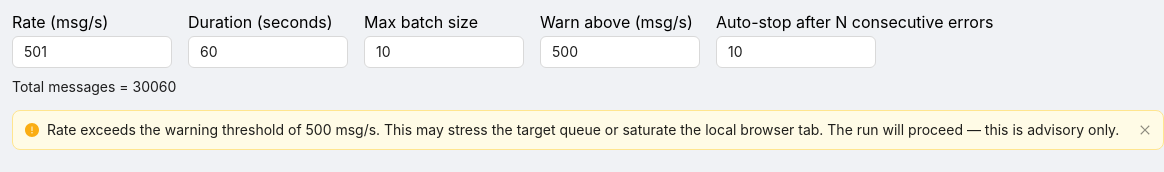
Test case: RateControls › warning returns when the threshold is crossed again after dismissal
This screenshot has width=1164, height=172.
Click the button named "close" at [1145, 130], box [1139,124,1151,136]
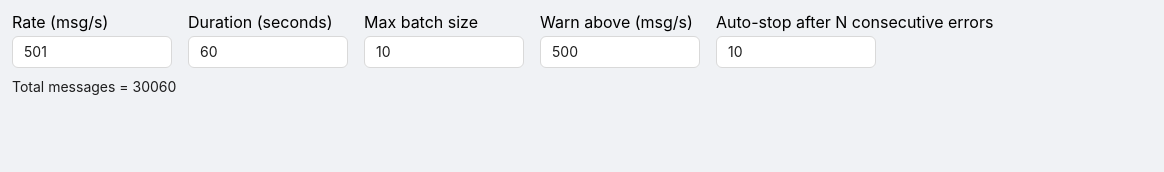
Expected: the element with test id "rate-warning" is gone
Drop back under the threshold, then cross it again — the advisory must reappear.
Replace the text in the number field labelled "Rate (msg/s)" with "400" at [92, 52], box [13,37,171,67]
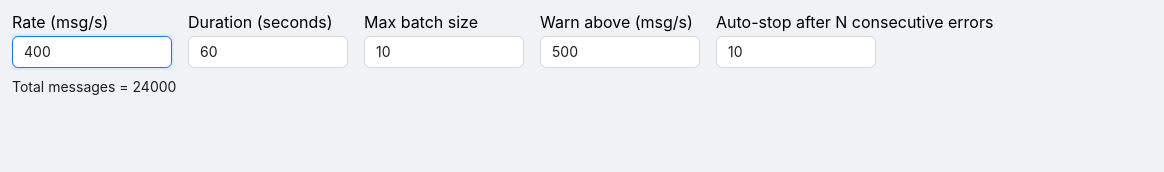
Replace the text in the number field labelled "Rate (msg/s)" with "600" at [92, 52], box [13,37,171,67]
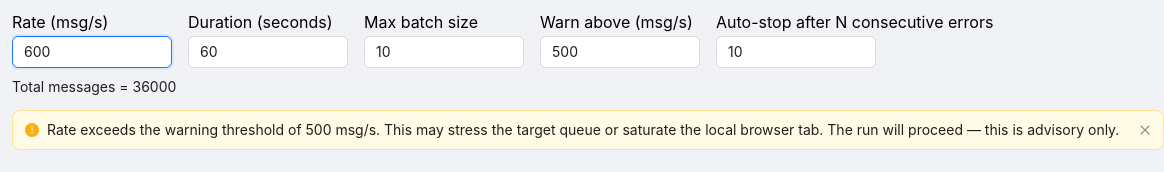
Expected: the element with test id "rate-warning" is shown, [12,110,1163,150]
